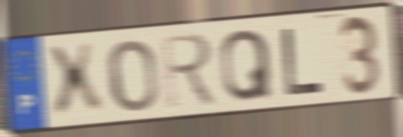3: (337, 11, 382, 99)
L: (279, 24, 328, 98)
O: (105, 37, 160, 115)
Q: (219, 27, 275, 105)
R: (159, 30, 221, 110)
X: (43, 39, 108, 122)
